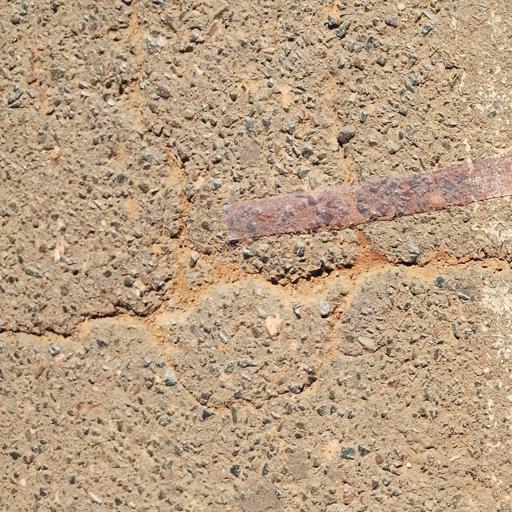GRIETA: (0, 310, 116, 344), (401, 250, 511, 274)
PIEL DE COCODRILO: (89, 0, 411, 421)
